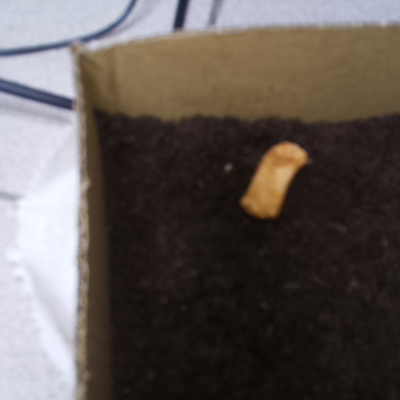eggs: (235, 139, 312, 227)
